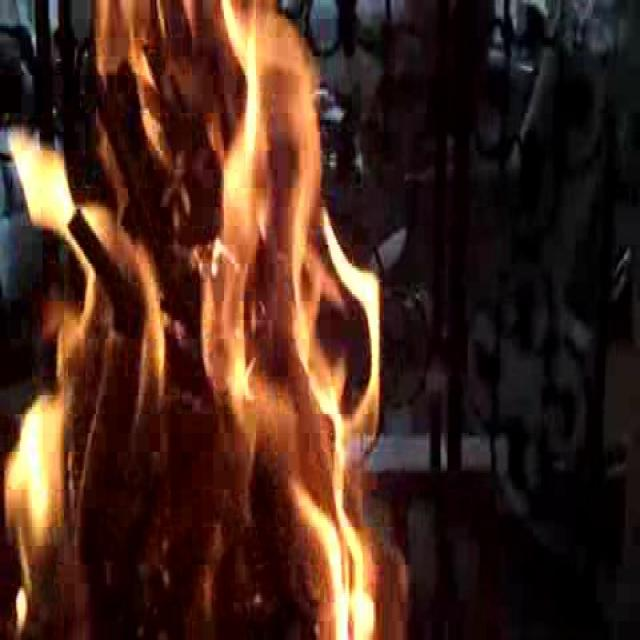fire: (22, 18, 379, 640)
